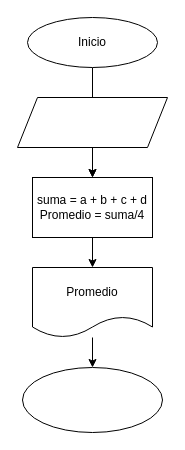
Some shapes in this 185 by 450 pixel diagram are drawn without their labels. Each missing label, with the centre of its shape:
"a, b, c, d" belongs at pixel 92 122.
"Final" belongs at pixel 92 399.
